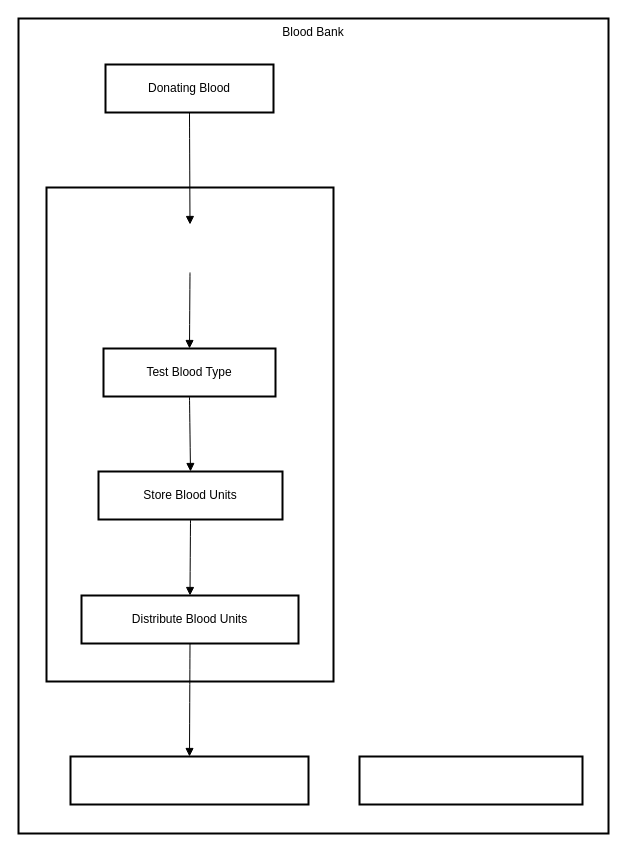
The diagram is 626 pixels wide and 851 high, and some of its shapes have lost their labels. Here are the shapes that lost their labels. From the top down, the box of each, then its label:
(45, 186, 334, 682): Blood Supply Chain
(69, 755, 309, 805): Recipient Receives Blood
(358, 755, 583, 805): Manage Blood Supplies
